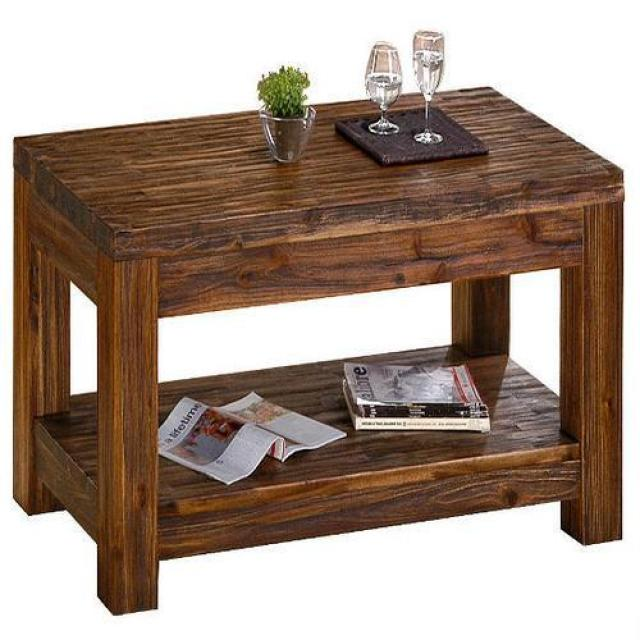table: (14, 86, 625, 617)
